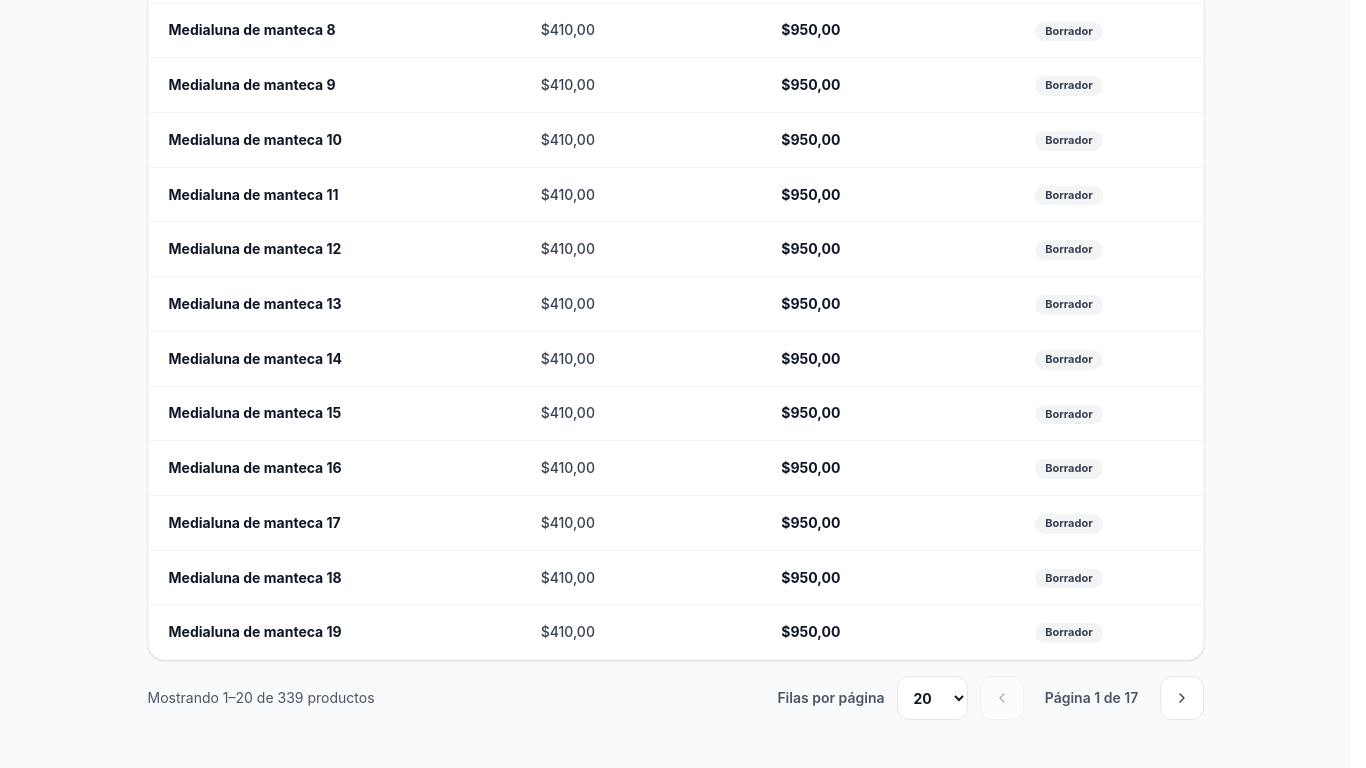
Scenario: ProductsPage - paginación y búsqueda en la API (#350) › muestra el total real del catálogo y navega con el paginador
(page scrolled)
Expected: the text "Mostrando 1–20 de 339 productos" is shown, [148,688,374,708]
Step 1. Click the button named "Página siguiente" → x=1182, y=698, box [1160,676,1204,720]
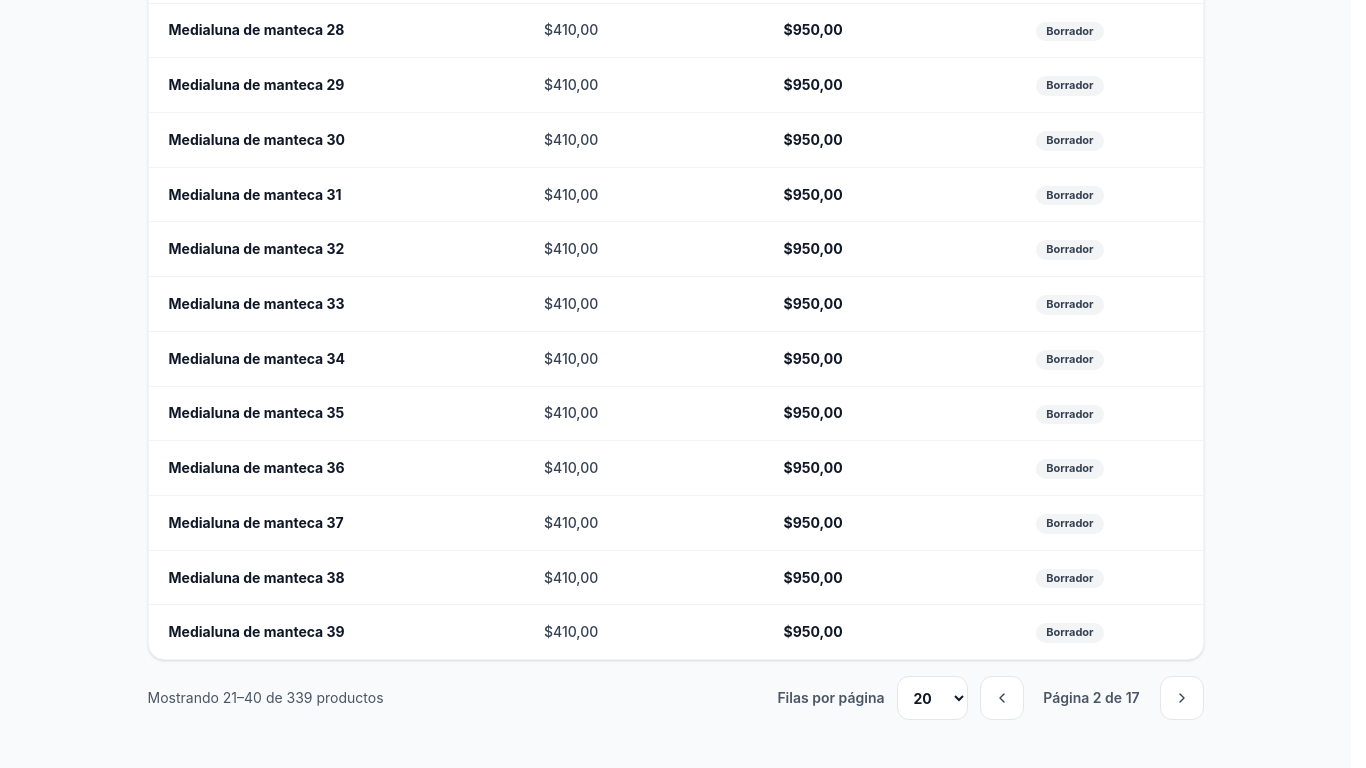
Expected: the text "Mostrando 21–40 de 339 productos" is shown, [148,688,384,708]
